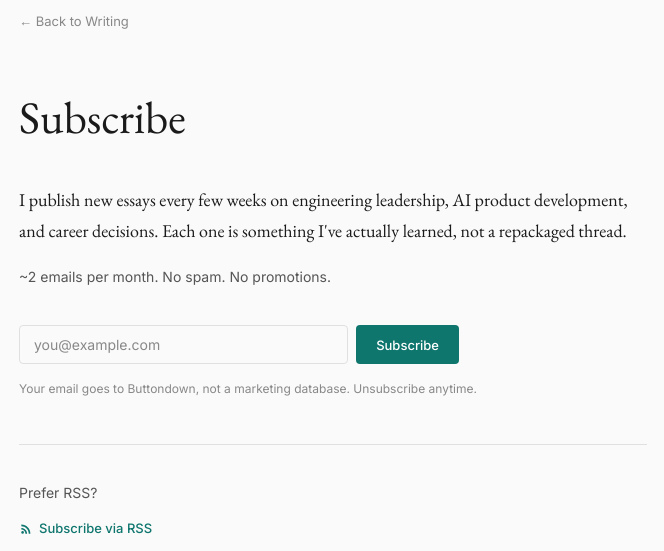
Test case: Subscribe page — successful submission › shows success message after successful API response
Type "test@example.com" into the field named "Email address" at (184, 344), box [19,325,348,364]
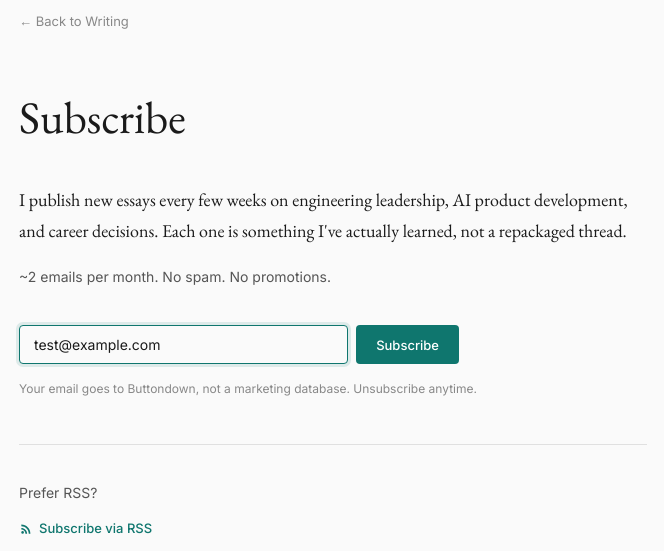
Click the button "Subscribe" at (408, 344), box [356,325,459,364]
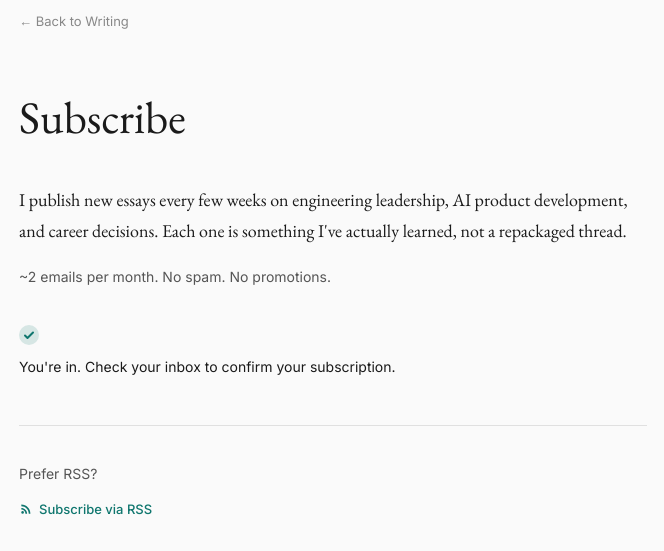
Result: the text "You're in. Check your inbox to confirm your subscription." is shown at [19,355,396,380]
